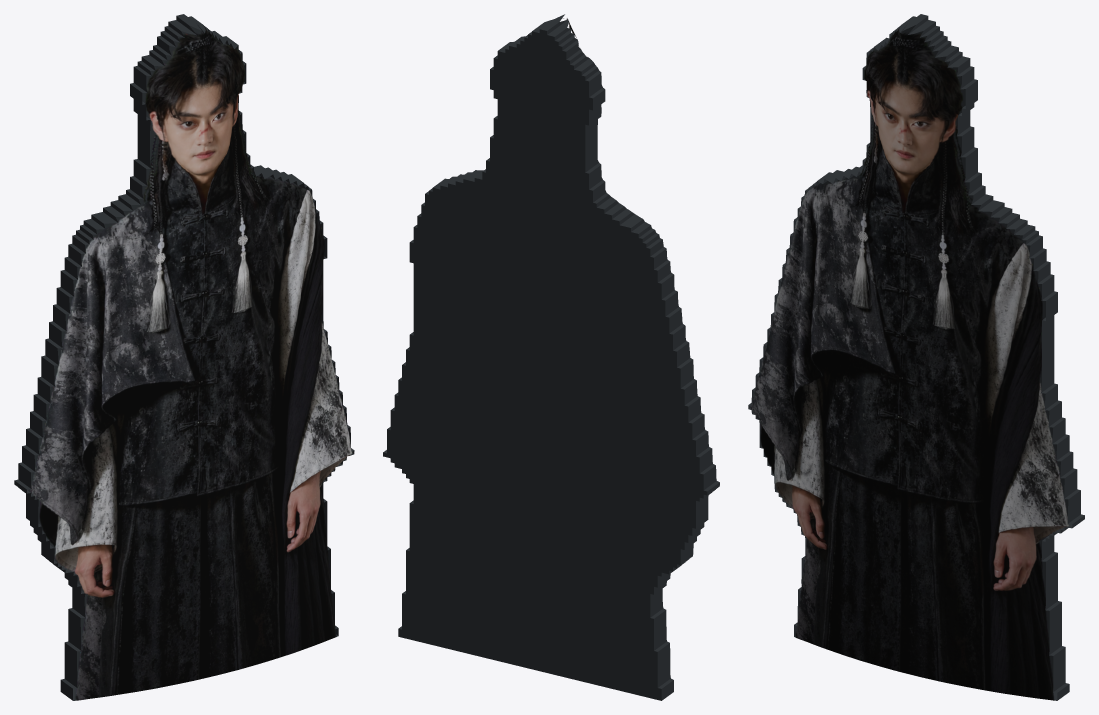
File: cheng-upper-body-relief-v1.glb
The picture shows the model from 3 angles, left to right: view 1: azimuth 30°, elevation 25°; view 2: azimuth 150°, elevation 25°; view 3: azimuth 330°, elevation 25°; orthographic projection.
Visible parts, largest first — view 1: ChengUpperBodyRelief; view 2: ChengUpperBodyRelief; view 3: ChengUpperBodyRelief.
Part boxes in pixels (x1=…): ChengUpperBodyRelief: x1=14, y1=14, x2=354, y2=700; ChengUpperBodyRelief: x1=383, y1=14, x2=719, y2=700; ChengUpperBodyRelief: x1=748, y1=14, x2=1084, y2=700.
Size of the model in its own units: 1.27 by 2.4 by 0.1548.
2 materials, 1 textured.
